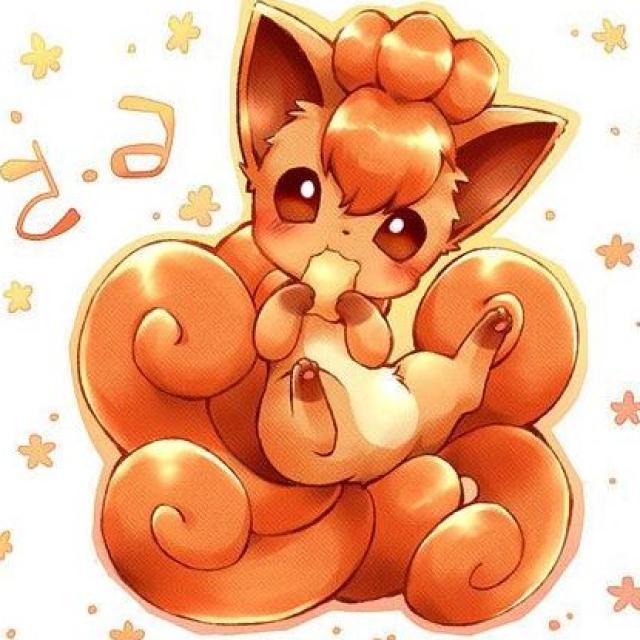Vulpix: (207, 2, 554, 486)
